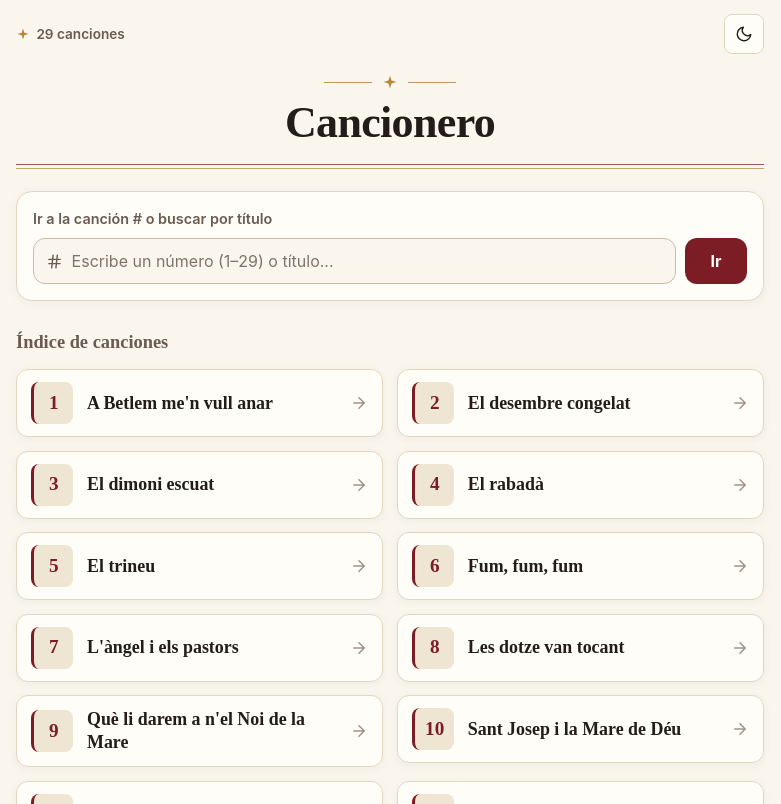
it: Cancionero App › filters songs by title on the home screen
The image size is (781, 804).
In the field labelled "Ir a la canción # o buscar por título": (355, 261) [33,238,676,284], type "peces"
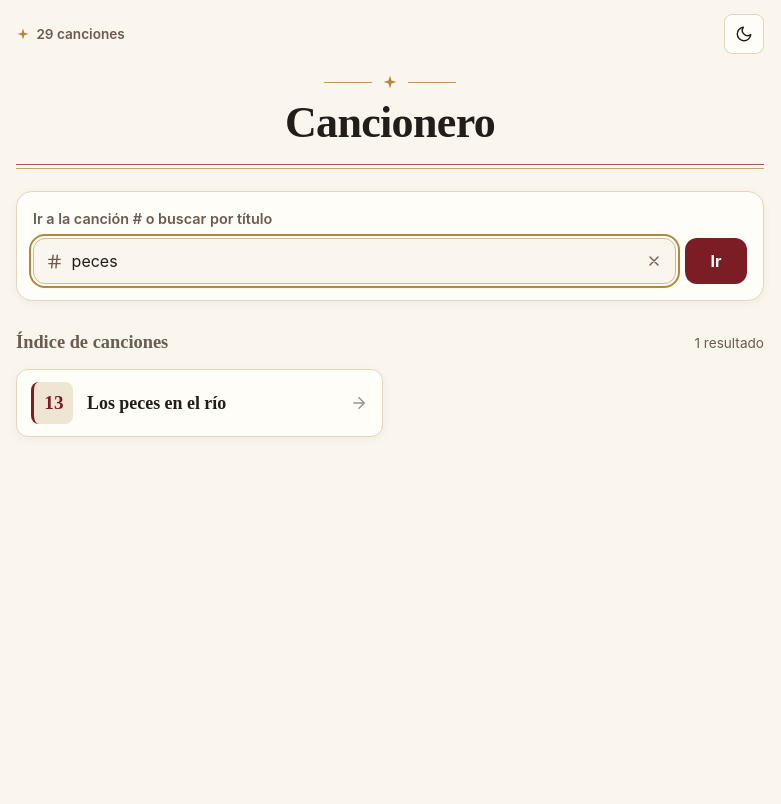
Expected: the link shows "Los peces en el río", [16,369,383,437]
Expected: the number of links is 1, [16,369,383,437]
